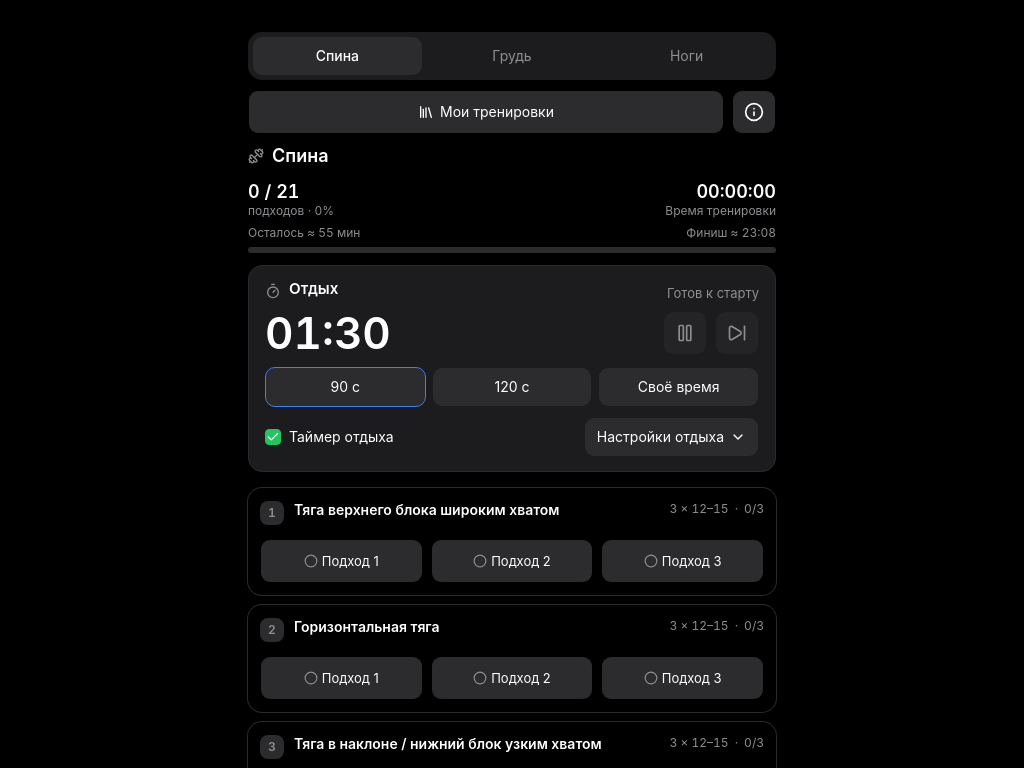
it: create, edit, reload, launch › edits an existing workout and keeps exercise ids
This screenshot has width=1024, height=768.
Click the button "Мои тренировки" at (486, 112), box 248,90 -> 724,134
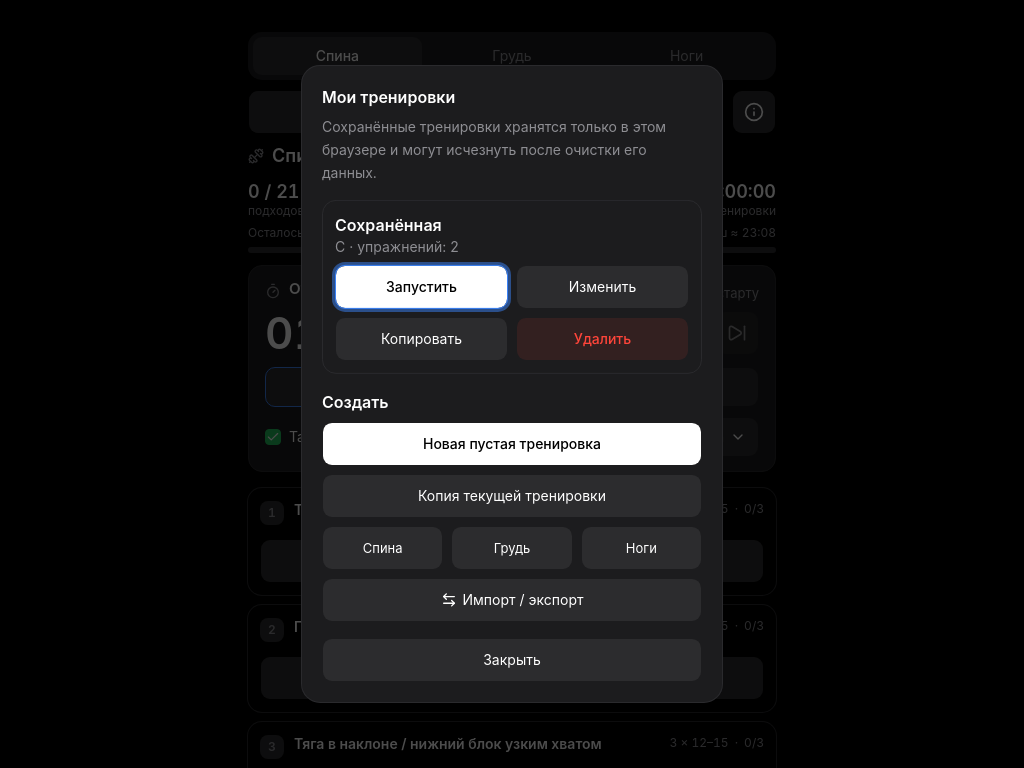
Click the button with aria-label "Изменить Сохранённая" at (602, 287), box 516,265 -> 689,309
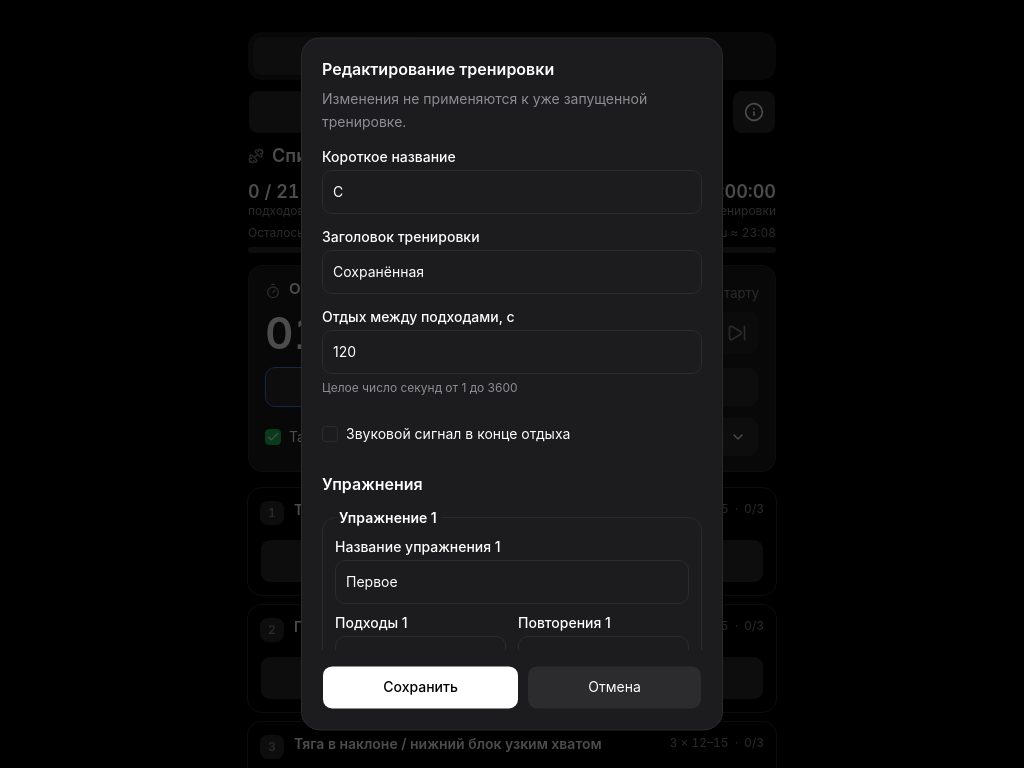
Replace the text in the field labelled "Заголовок тренировки" with "Переименована" at (512, 272), box 322,250 -> 702,294
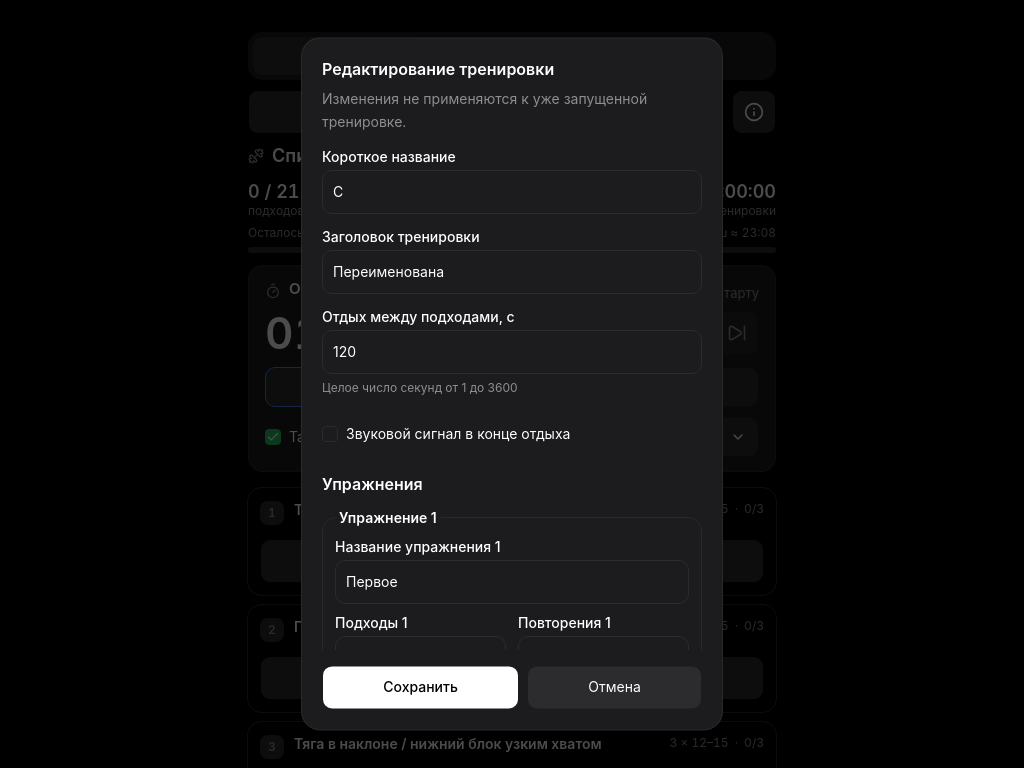
Replace the text in the field labelled "Название упражнения 1" with "Новое" at (512, 582), box 335,560 -> 689,604
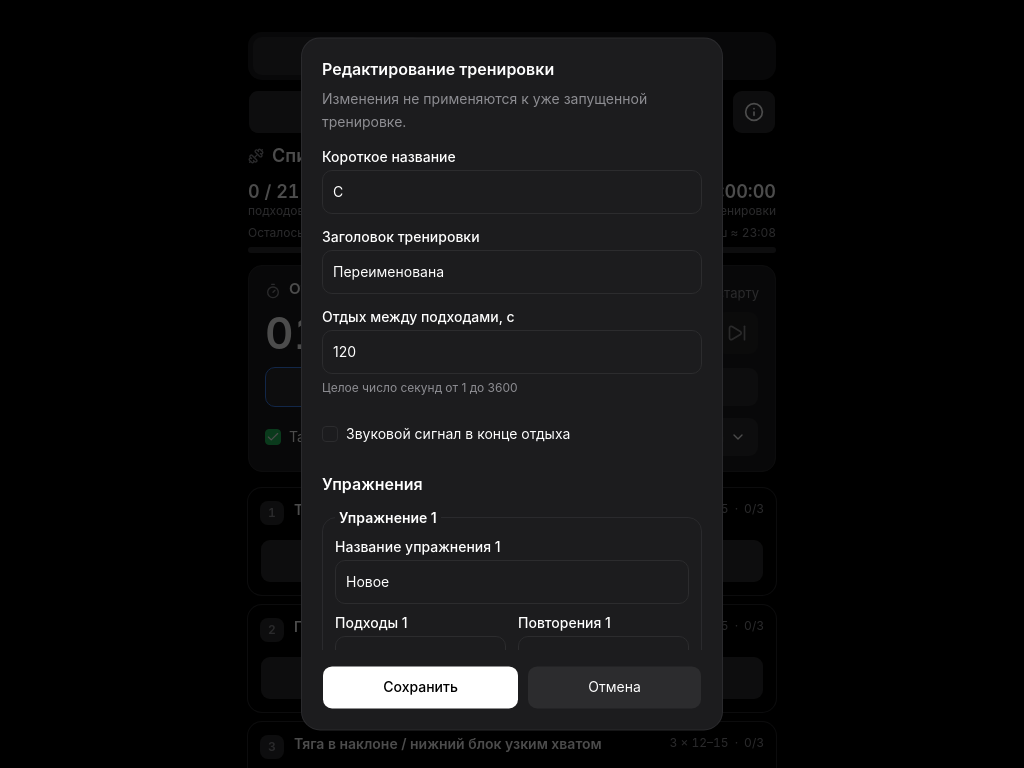
Click the button "Сохранить" at (421, 688), box 322,666 -> 519,710
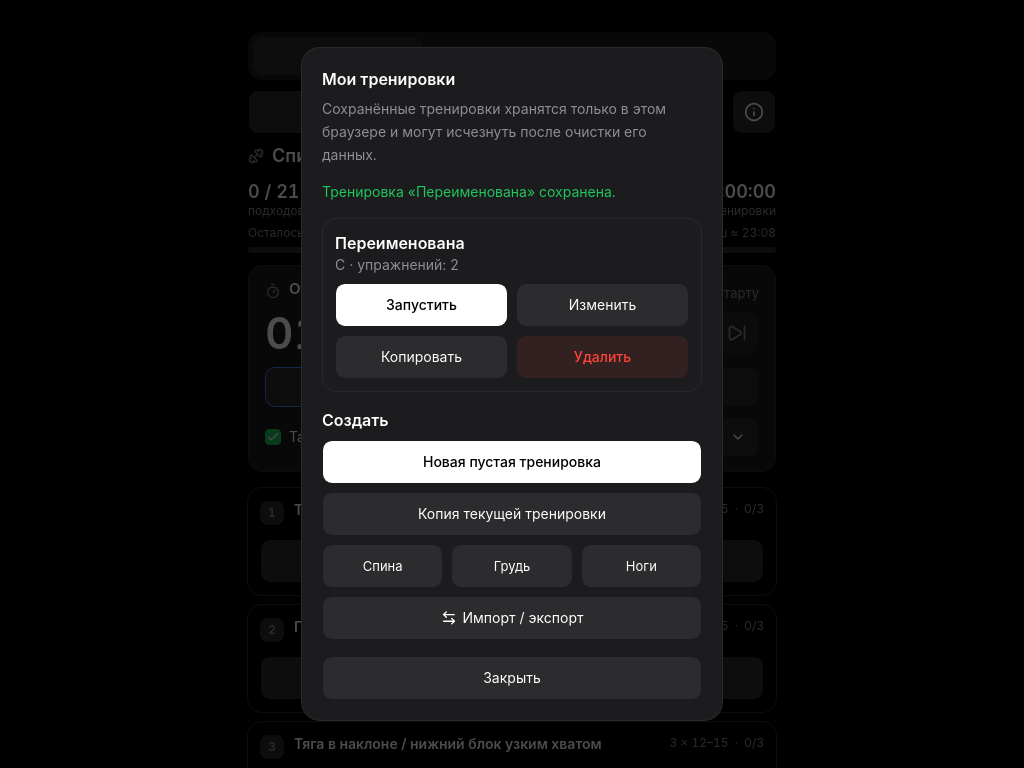
Expected: the text "Переименована" is shown, 335,233 -> 465,253
